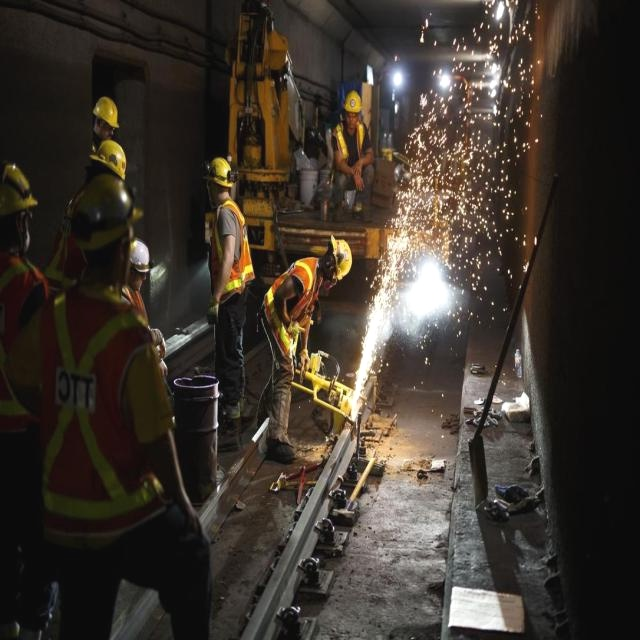Con_Casco: (323, 236, 353, 288), (91, 140, 129, 176), (205, 156, 235, 198), (91, 94, 118, 137), (343, 90, 362, 118)
Con_Chaleco: (266, 256, 318, 355), (208, 202, 252, 296), (333, 120, 365, 167)
